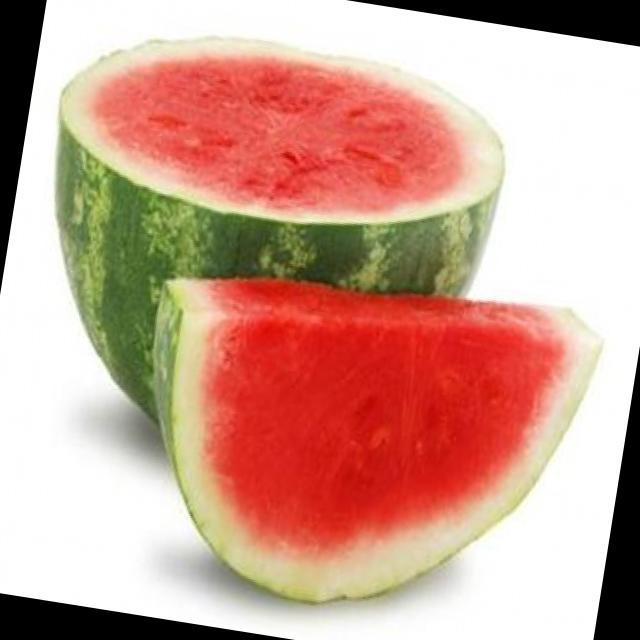WATERMELON: (15, 8, 521, 456), (122, 270, 594, 640)
